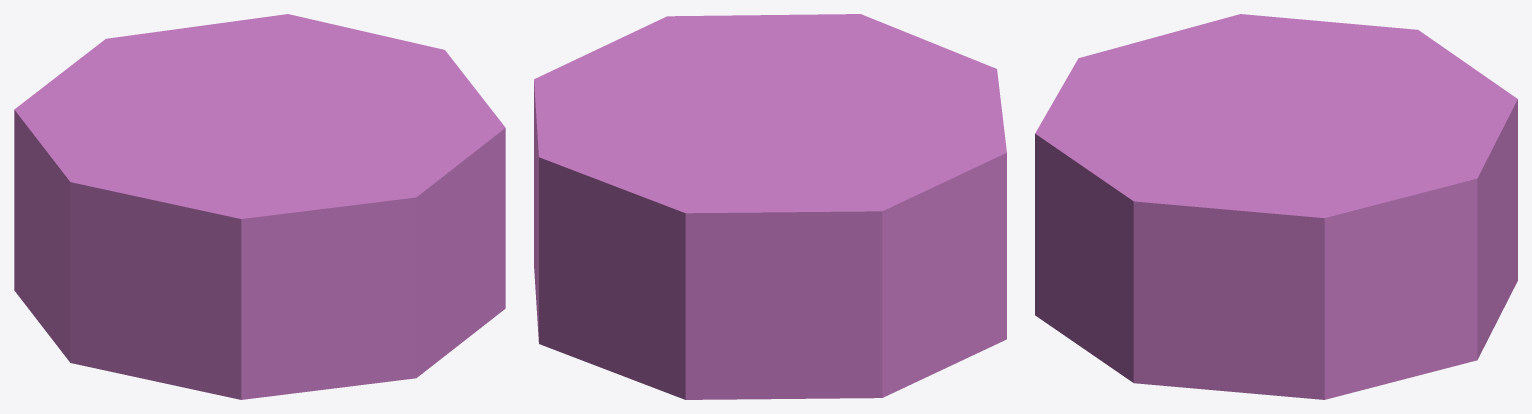
Rendered from level_bounds_trigger.fbx.
3 renders of one model, left to right at view 1: azimuth 30°, elevation 25°; view 2: azimuth 150°, elevation 25°; view 3: azimuth 270°, elevation 25°, orthographic. The views are drawn at different scales.
Visible parts, largest first — view 1: level_bounds_trigger; view 2: level_bounds_trigger; view 3: level_bounds_trigger.
Boxes of the visible parts, x1=… form: level_bounds_trigger: x1=14, y1=14, x2=505, y2=399; level_bounds_trigger: x1=534, y1=14, x2=1006, y2=399; level_bounds_trigger: x1=1035, y1=14, x2=1517, y2=399.
Bounding box in the file's own units: 2714258 × 1126883 × 2712027.
